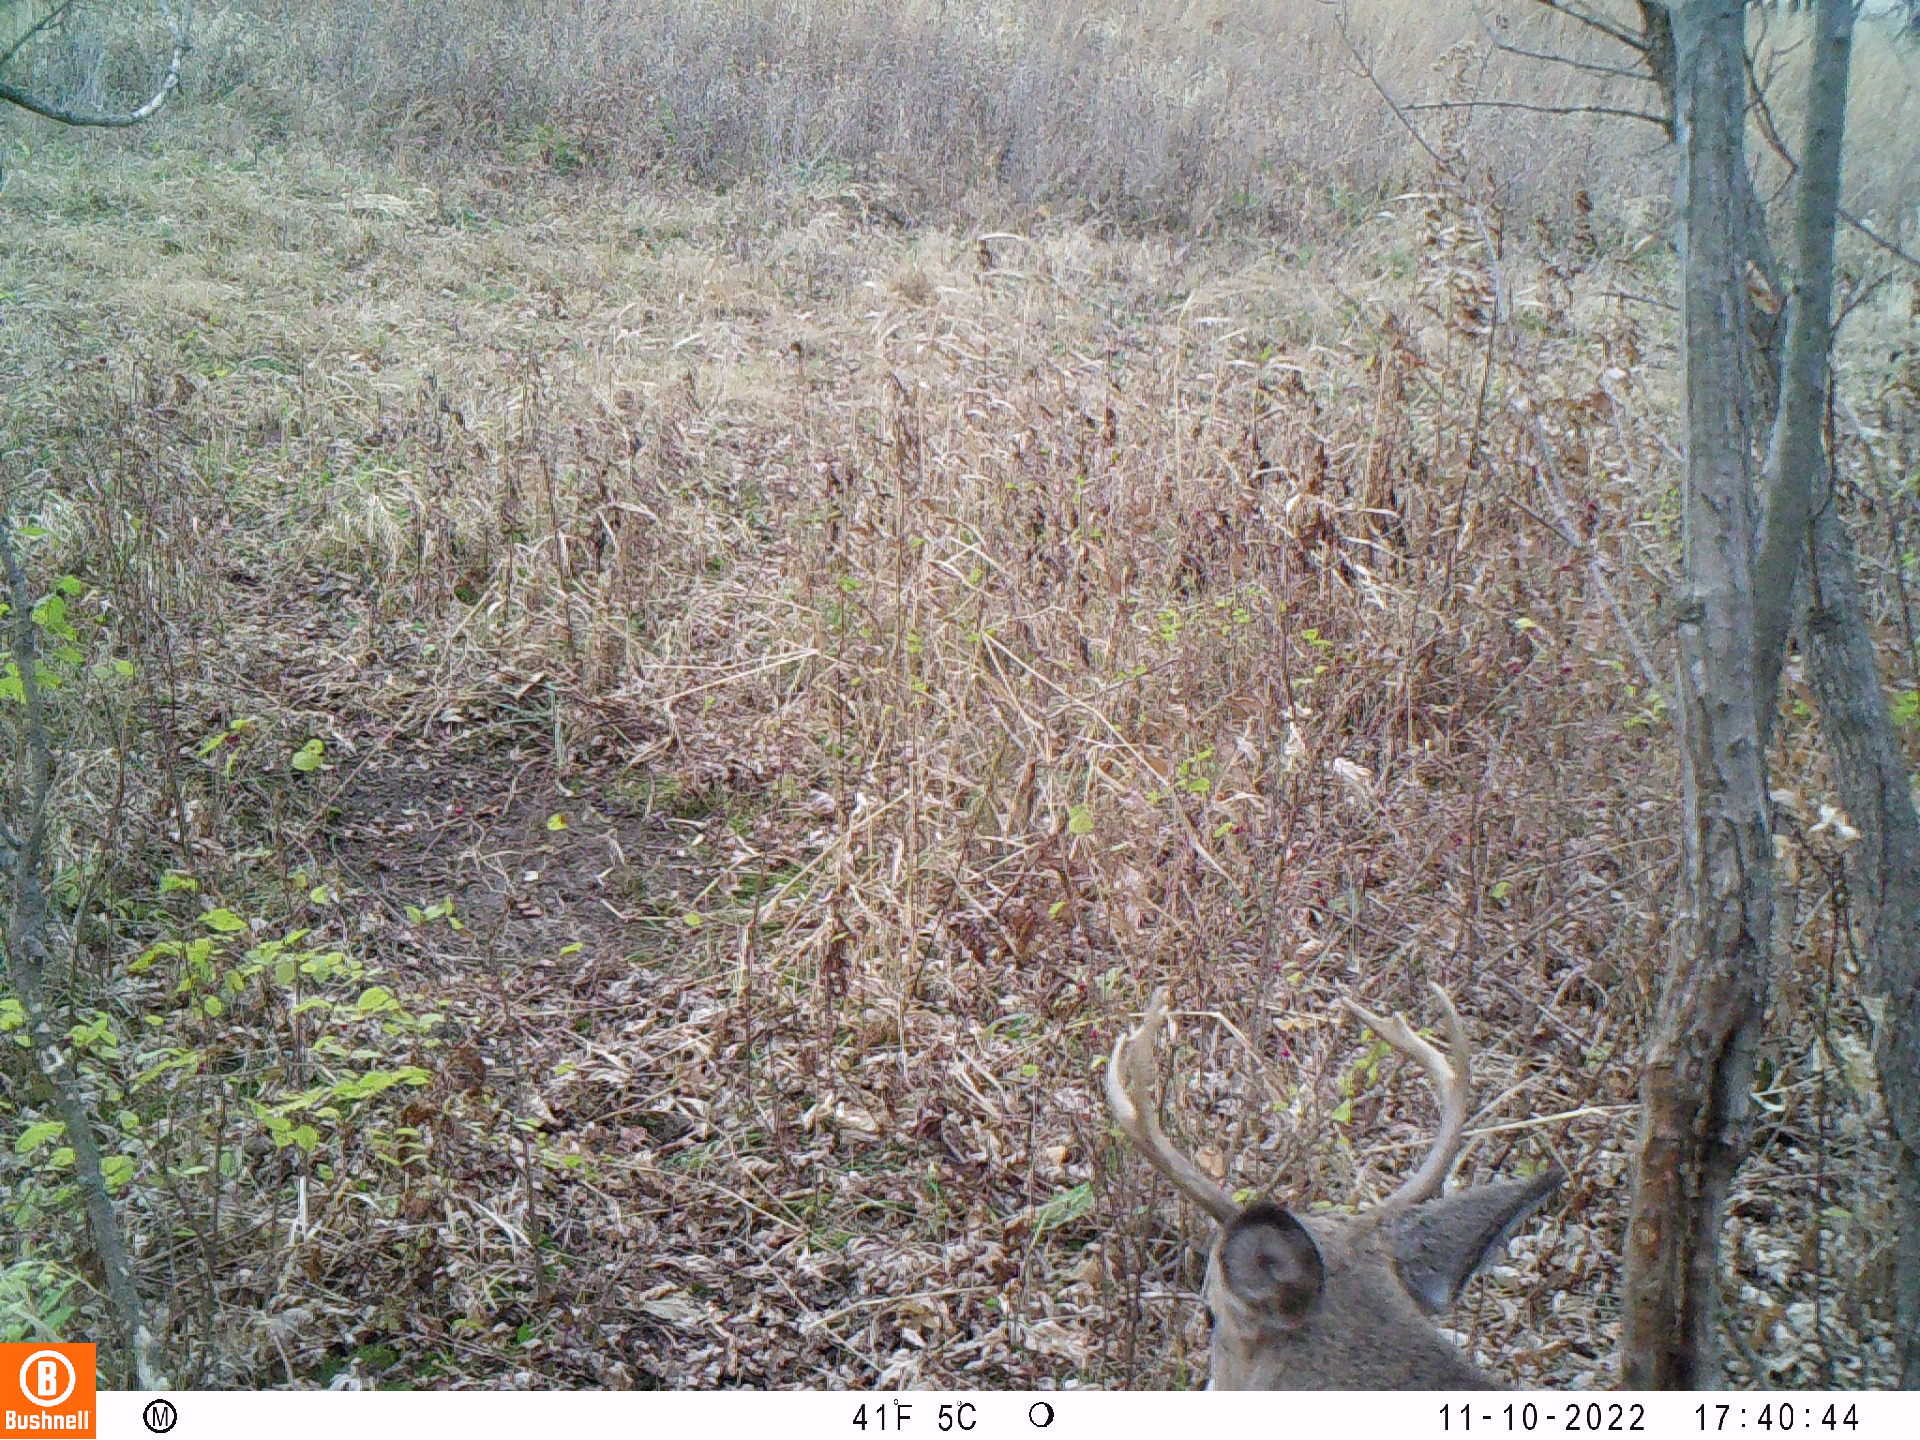DeerBuck: (1097, 968, 1571, 1388)
DeerBuckHead: (1097, 967, 1567, 1389)
